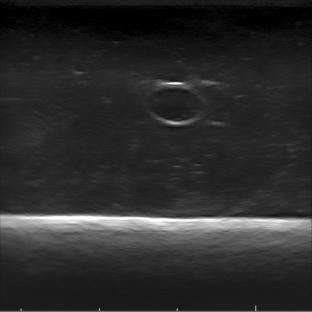vessel: (144, 81, 205, 126)
